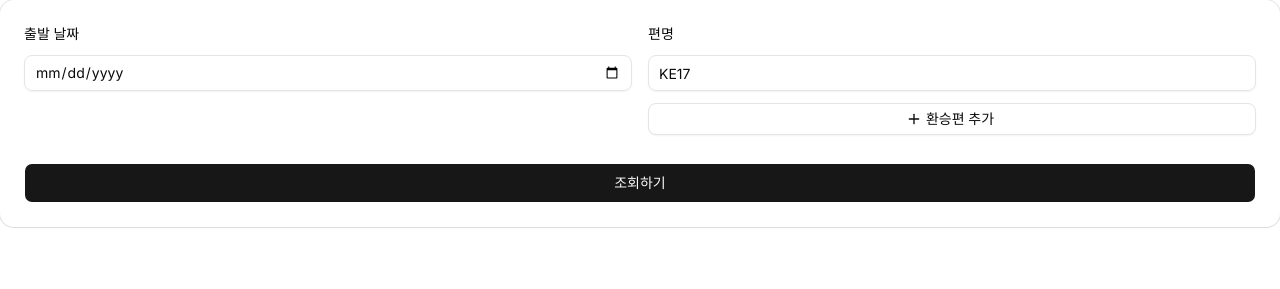
Test: 환승편 칸 › '환승편 추가'를 누르면 번호가 붙은 편명 칸이 늘어나고 모두 같은 이름으로 전송된다
Click the button "환승편 추가": (952, 119) [648,103,1256,135]
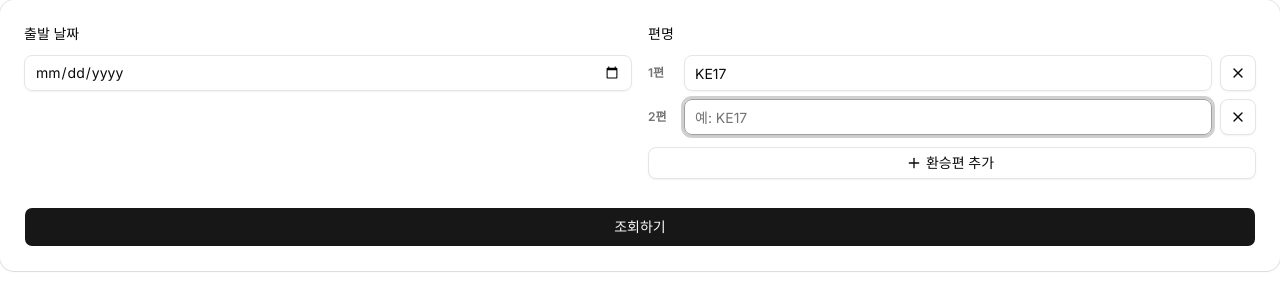
Expected: the field named "1편 편명" holds "KE17", [684,55,1212,91]
Expected: the field named "2편 편명" is empty, [684,99,1212,135]
Expected: the number of buttons named "편 삭제" is 2, [1220,55,1256,91]; [1220,99,1256,135]
